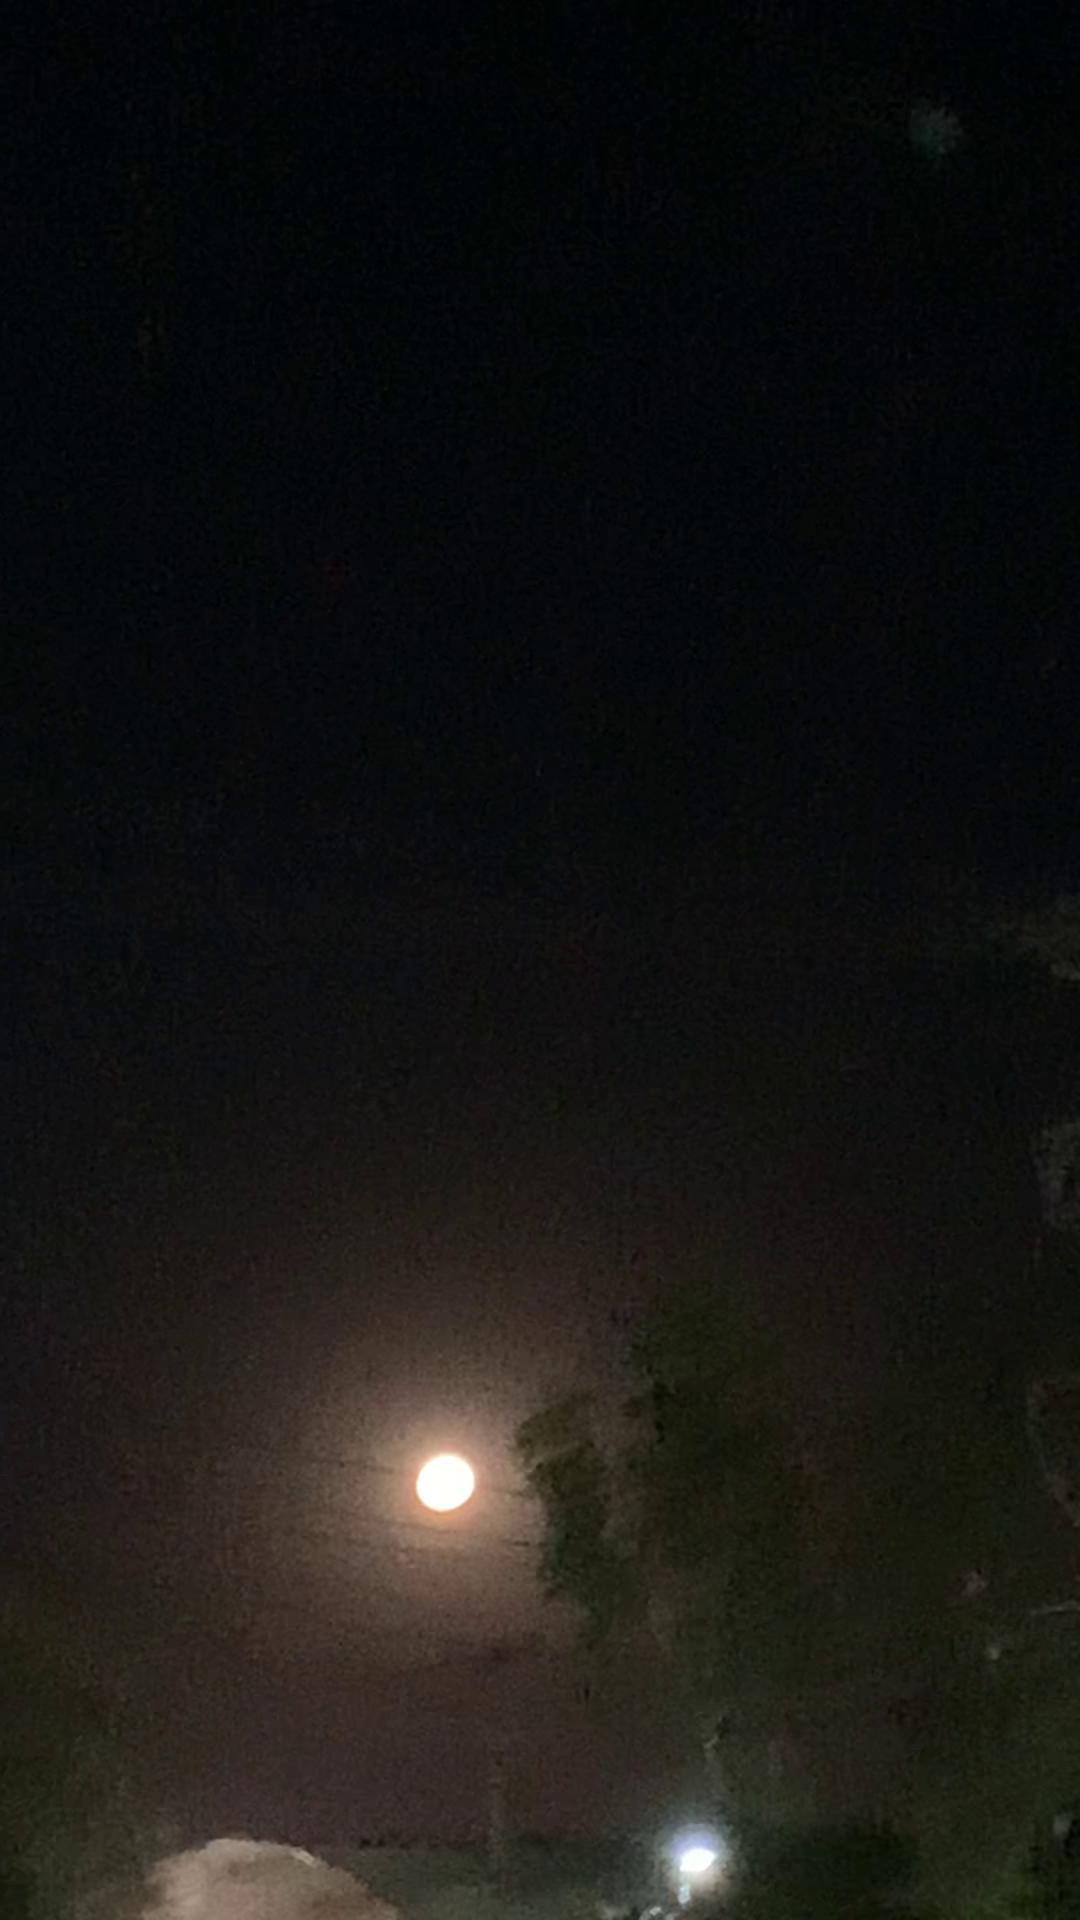moon: (378, 1457, 467, 1534)
